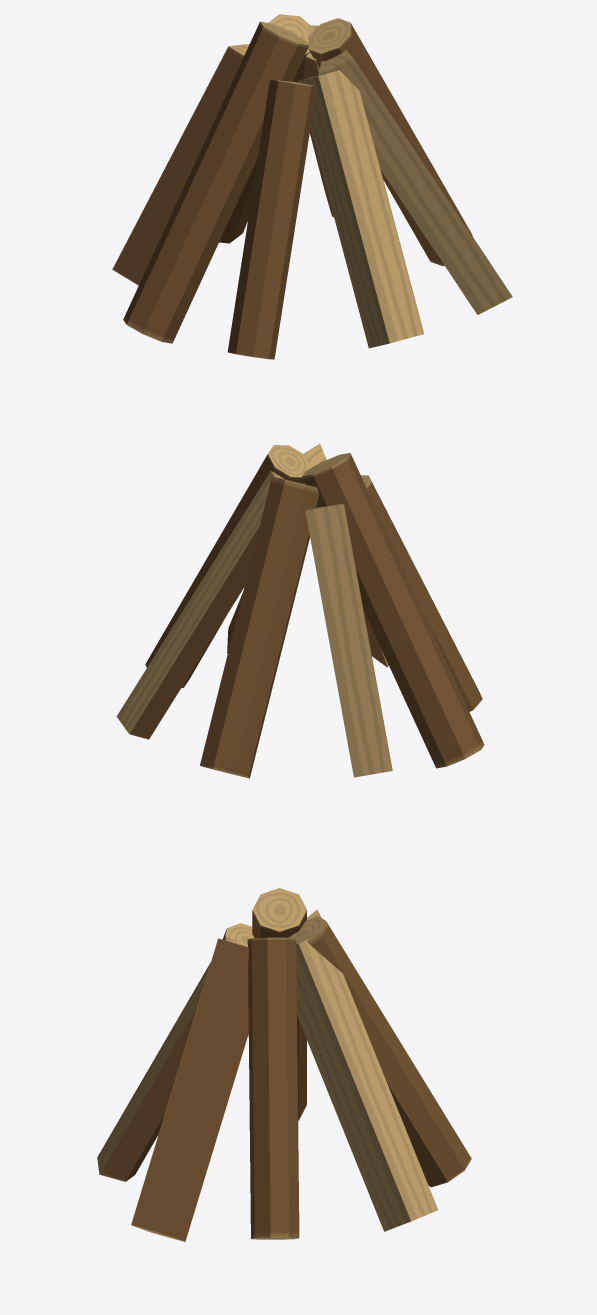
File: campfire.fbx
The picture shows the model from 3 angles, top to bottom: view 1: azimuth 30°, elevation 25°; view 2: azimuth 150°, elevation 25°; view 3: azimuth 270°, elevation 25°; orthographic projection. The views are drawn at different scales.
Visible parts, largest first — view 1: Campfire; view 2: Campfire; view 3: Campfire.
Part boxes in pixels (box(x1,y1,x2,y2)): Campfire: box(112, 14, 512, 359); Campfire: box(116, 443, 484, 778); Campfire: box(97, 888, 471, 1241).
Size of the model in its own units: 412 by 241 by 417.
1 material, 1 textured.
